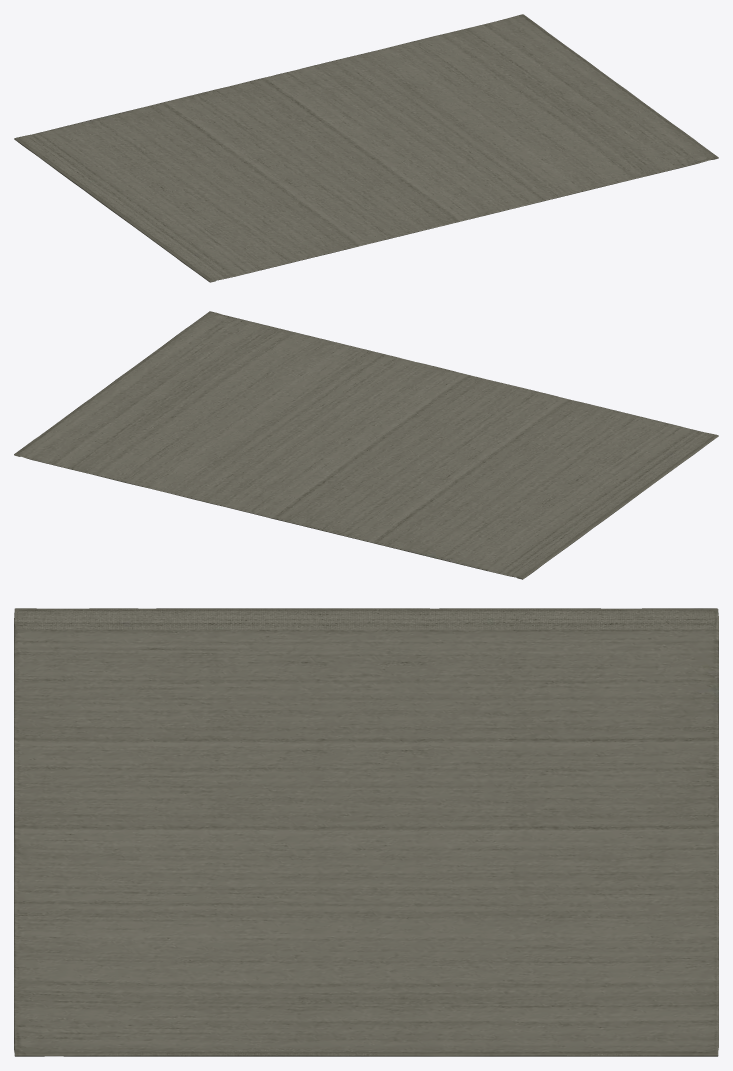
Rendered from 20561858-mini.glb.
3 views of the same model, one above another, from view 1: azimuth 30°, elevation 25°; view 2: azimuth 150°, elevation 25°; view 3: azimuth 270°, elevation 25° (orthographic). The views are drawn at different scales.
Visible parts, largest first — view 1: ASY_ART_20561858_S01_NV01; view 2: ASY_ART_20561858_S01_NV01; view 3: ASY_ART_20561858_S01_NV01.
Part boxes in pixels (x1,y1,x2,y2): ASY_ART_20561858_S01_NV01: [14, 14, 718, 282]; ASY_ART_20561858_S01_NV01: [14, 311, 718, 579]; ASY_ART_20561858_S01_NV01: [14, 608, 718, 1056].
Bounding box in the file's own units: 3 × 0.00879 × 2.
1 material, 1 textured.
